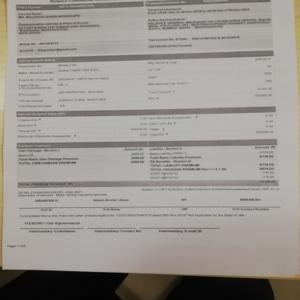table: (15, 50, 275, 109), (18, 138, 278, 187), (14, 107, 278, 139)
